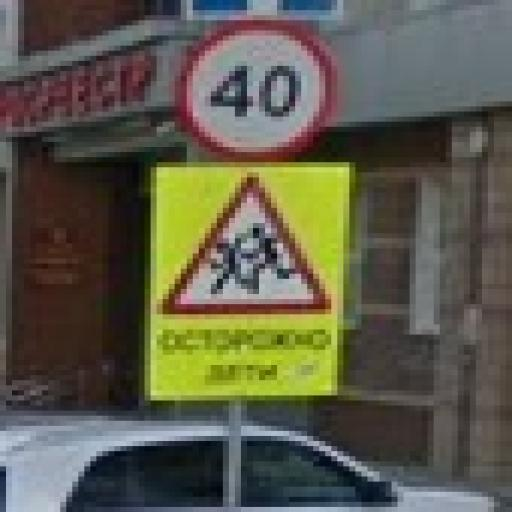traffic_sign: (158, 174, 332, 321), (176, 16, 338, 158)
